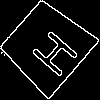H: (22, 22, 81, 80)
